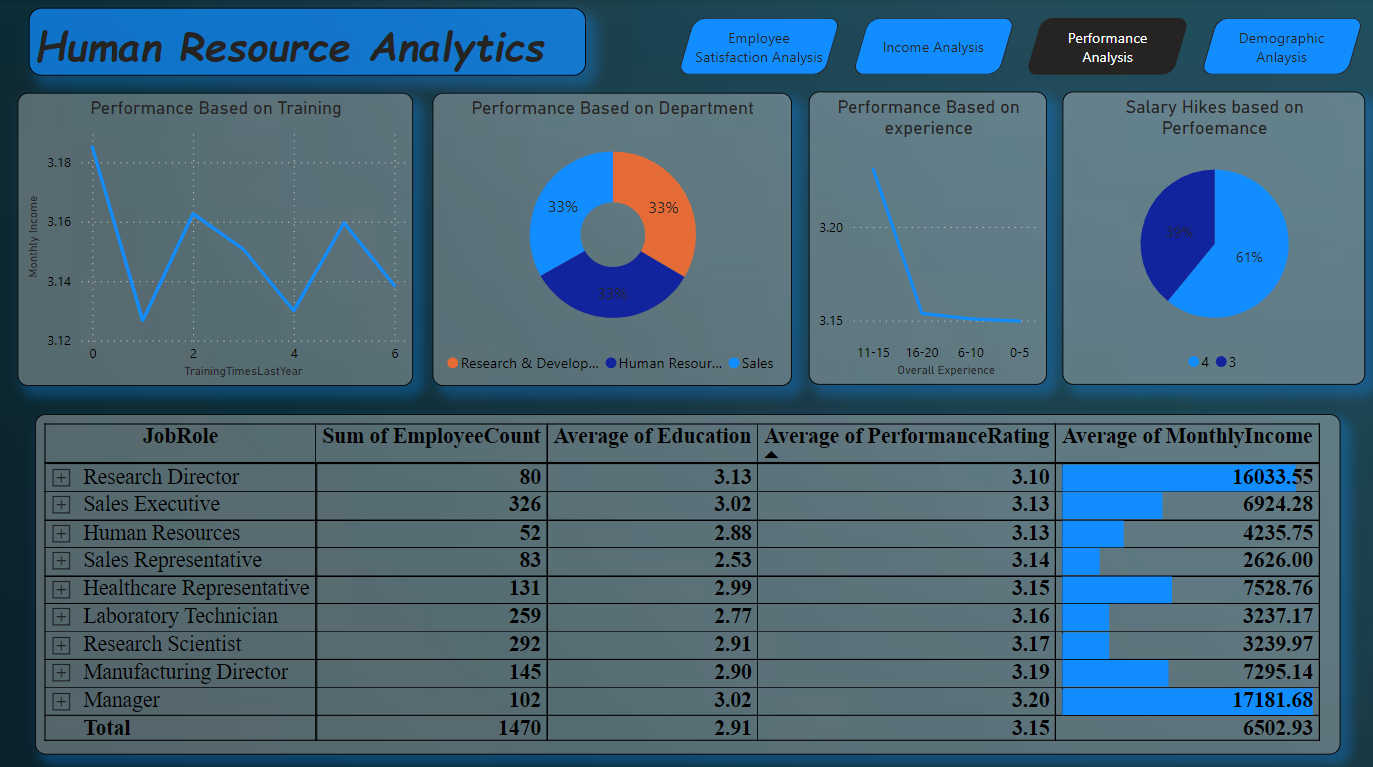

What the dashboard file says about the page in this screenshot:
{"tool":"powerbi","page":{"name":"Performance Analysis","canvas":[1280,720],"ordinal":2},"visuals":[{"type":"lineChart","title":"Performance Based on Training","fields":{"Category":["HR Data.TrainingTimesLastYear"],"Y":["Avg(HR Data.PerformanceRating)"]},"box":[16.5,87.4,367.8,272.6],"z":0},{"type":"pivotTable","title":"Performance Based on Over Time","fields":{"Rows":["HR Data.JobRole","HR Data.EducationField"],"Values":["Sum(HR Data.EmployeeCount)","Avg(HR Data.Education)","Avg(HR Data.PerformanceRating)","Avg(HR Data.MonthlyIncome)"]},"box":[33,386.6,1214.3,316.9],"z":1000},{"type":"donutChart","title":"Performance Based on Department","fields":{"Y":["Avg(HR Data.PerformanceRating)"],"Category":["HR Data.Department"]},"box":[401.8,87.4,334.1,272.6],"z":2000},{"type":"pageNavigator","box":[630,17.7,638.9,53.2],"z":3000},{"type":"lineChart","title":"Performance Based on experience","fields":{"Category":["HR Data.Overall Experience"],"Y":["Avg(HR Data.PerformanceRating)"]},"box":[752.1,86.2,221.5,272.6],"z":4000},{"type":"pieChart","title":"Salary Hikes based on Perfoemance","fields":{"Category":["HR Data.PerformanceRating"],"Y":["Avg(HR Data.PercentSalaryHike)"]},"box":[988.6,86.2,281.5,272.6],"z":5000},{"type":"textbox","box":[26.6,7.6,518.4,63.4],"z":5001}]}

Visuals, with their boxes in screenshot pixels (x1, y1, x2, y2), scaled from the page's 1280x720 canvas onto the 1373x767 screenshot:
"Performance Based on Training" lineChart: {"left": 18, "top": 93, "right": 412, "bottom": 384}
"Performance Based on Over Time" pivotTable: {"left": 35, "top": 412, "right": 1338, "bottom": 749}
"Performance Based on Department" donutChart: {"left": 431, "top": 93, "right": 789, "bottom": 384}
pageNavigator: {"left": 676, "top": 19, "right": 1361, "bottom": 76}
"Performance Based on experience" lineChart: {"left": 807, "top": 92, "right": 1044, "bottom": 382}
"Salary Hikes based on Perfoemance" pieChart: {"left": 1060, "top": 92, "right": 1362, "bottom": 382}
textbox: {"left": 29, "top": 8, "right": 585, "bottom": 76}
